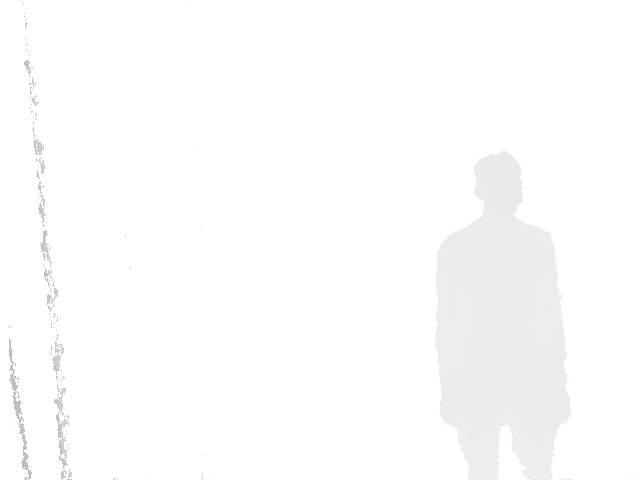head: (473, 151, 524, 214)
person: (434, 150, 573, 480)
